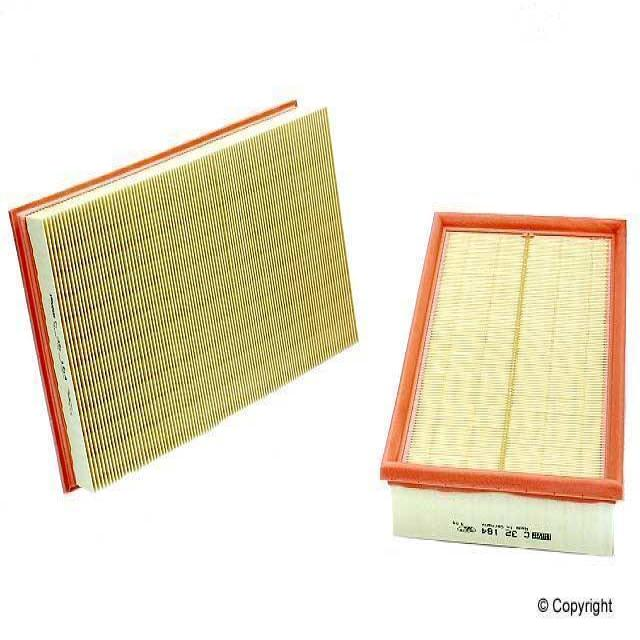air_filter: (0, 90, 364, 502)
